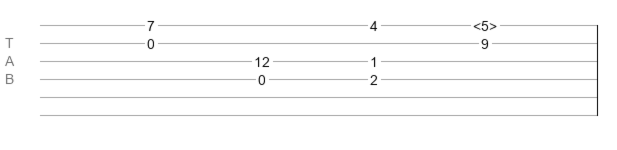0: (147, 36, 155, 46), (258, 72, 266, 82)
1: (370, 54, 378, 64)
12: (254, 54, 270, 64)
2: (370, 72, 378, 82)
4: (370, 18, 378, 28)
7: (147, 18, 155, 28)
9: (481, 36, 489, 46)
harmonic: (473, 18, 497, 28)
